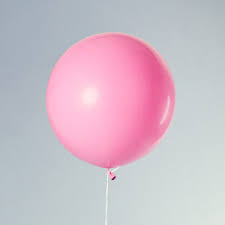Balloon: (46, 33, 177, 169)
